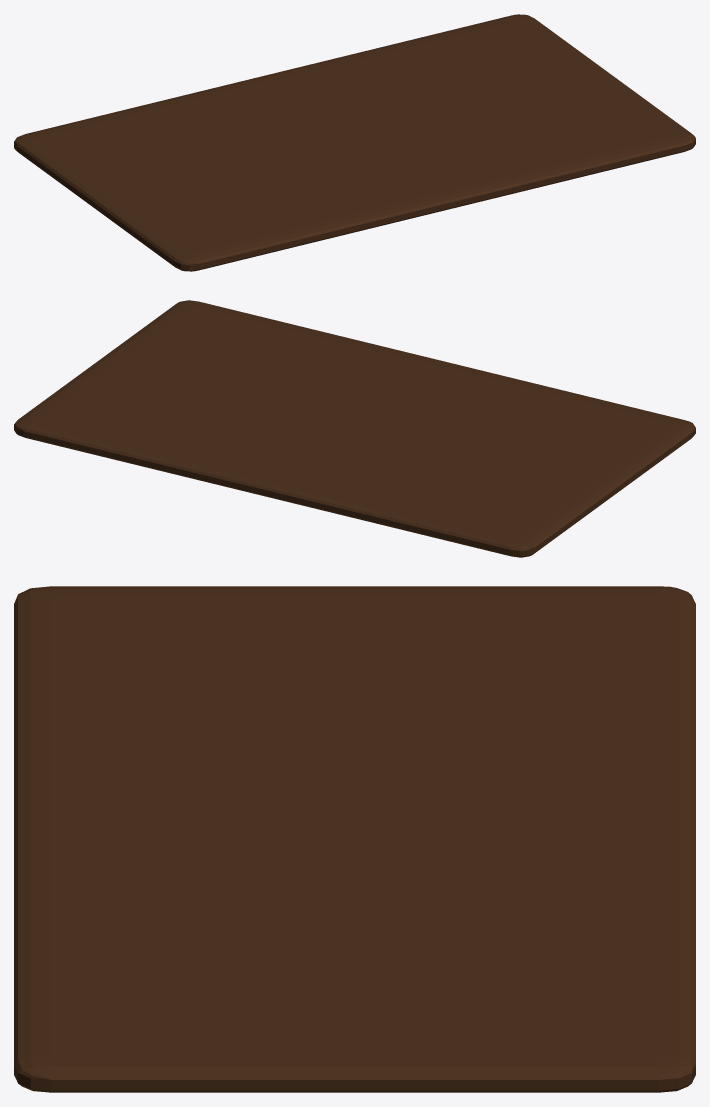
File: terrain_3.FBX
3 renders of one model, top to bottom at view 1: azimuth 30°, elevation 25°; view 2: azimuth 150°, elevation 25°; view 3: azimuth 270°, elevation 25°, orthographic. The views are drawn at different scales.
Parts seen in each view (by area): view 1: terrain_3; view 2: terrain_3; view 3: terrain_3.
Part boxes in pixels (left/top/right/bottom): terrain_3: left=14, top=14, right=695, bottom=271; terrain_3: left=14, top=300, right=695, bottom=557; terrain_3: left=14, top=586, right=695, bottom=1092.
Bounding box in the file's own units: 898 × 20.87 × 527.
